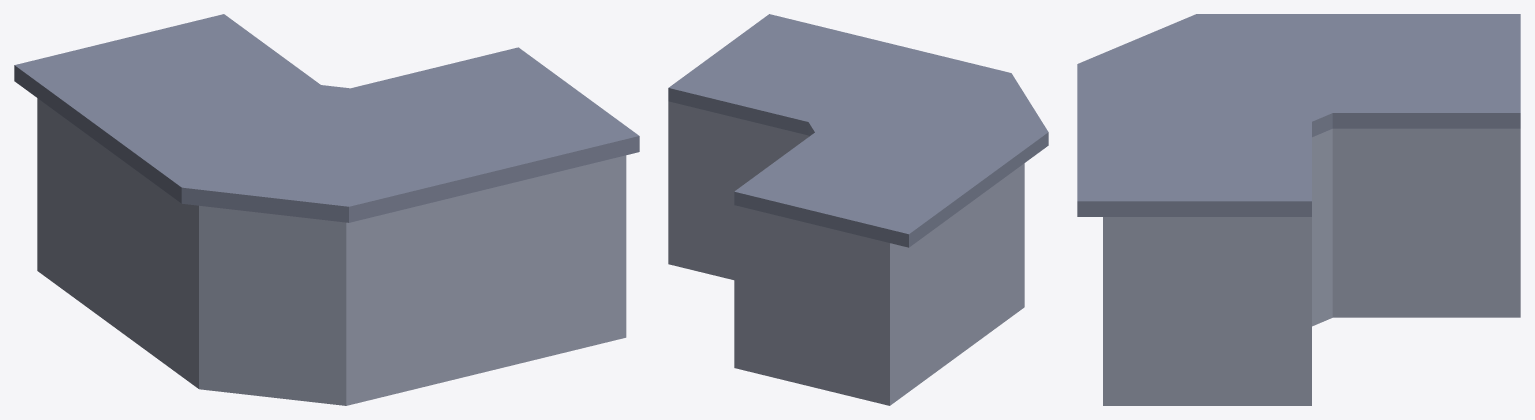
Rendered from counter-corner.fbx.
3 views of the same model, side by side, from view 1: azimuth 30°, elevation 25°; view 2: azimuth 150°, elevation 25°; view 3: azimuth 270°, elevation 25° (orthographic). The views are drawn at different scales.
Visible parts, largest first — view 1: counter_corner; view 2: counter_corner; view 3: counter_corner.
Boxes of the visible parts, bbox=[...] form: counter_corner: bbox=[14, 14, 639, 405]; counter_corner: bbox=[668, 14, 1048, 405]; counter_corner: bbox=[1077, 14, 1520, 405].
Bounding box in the file's own units: 212 × 108 × 212.
